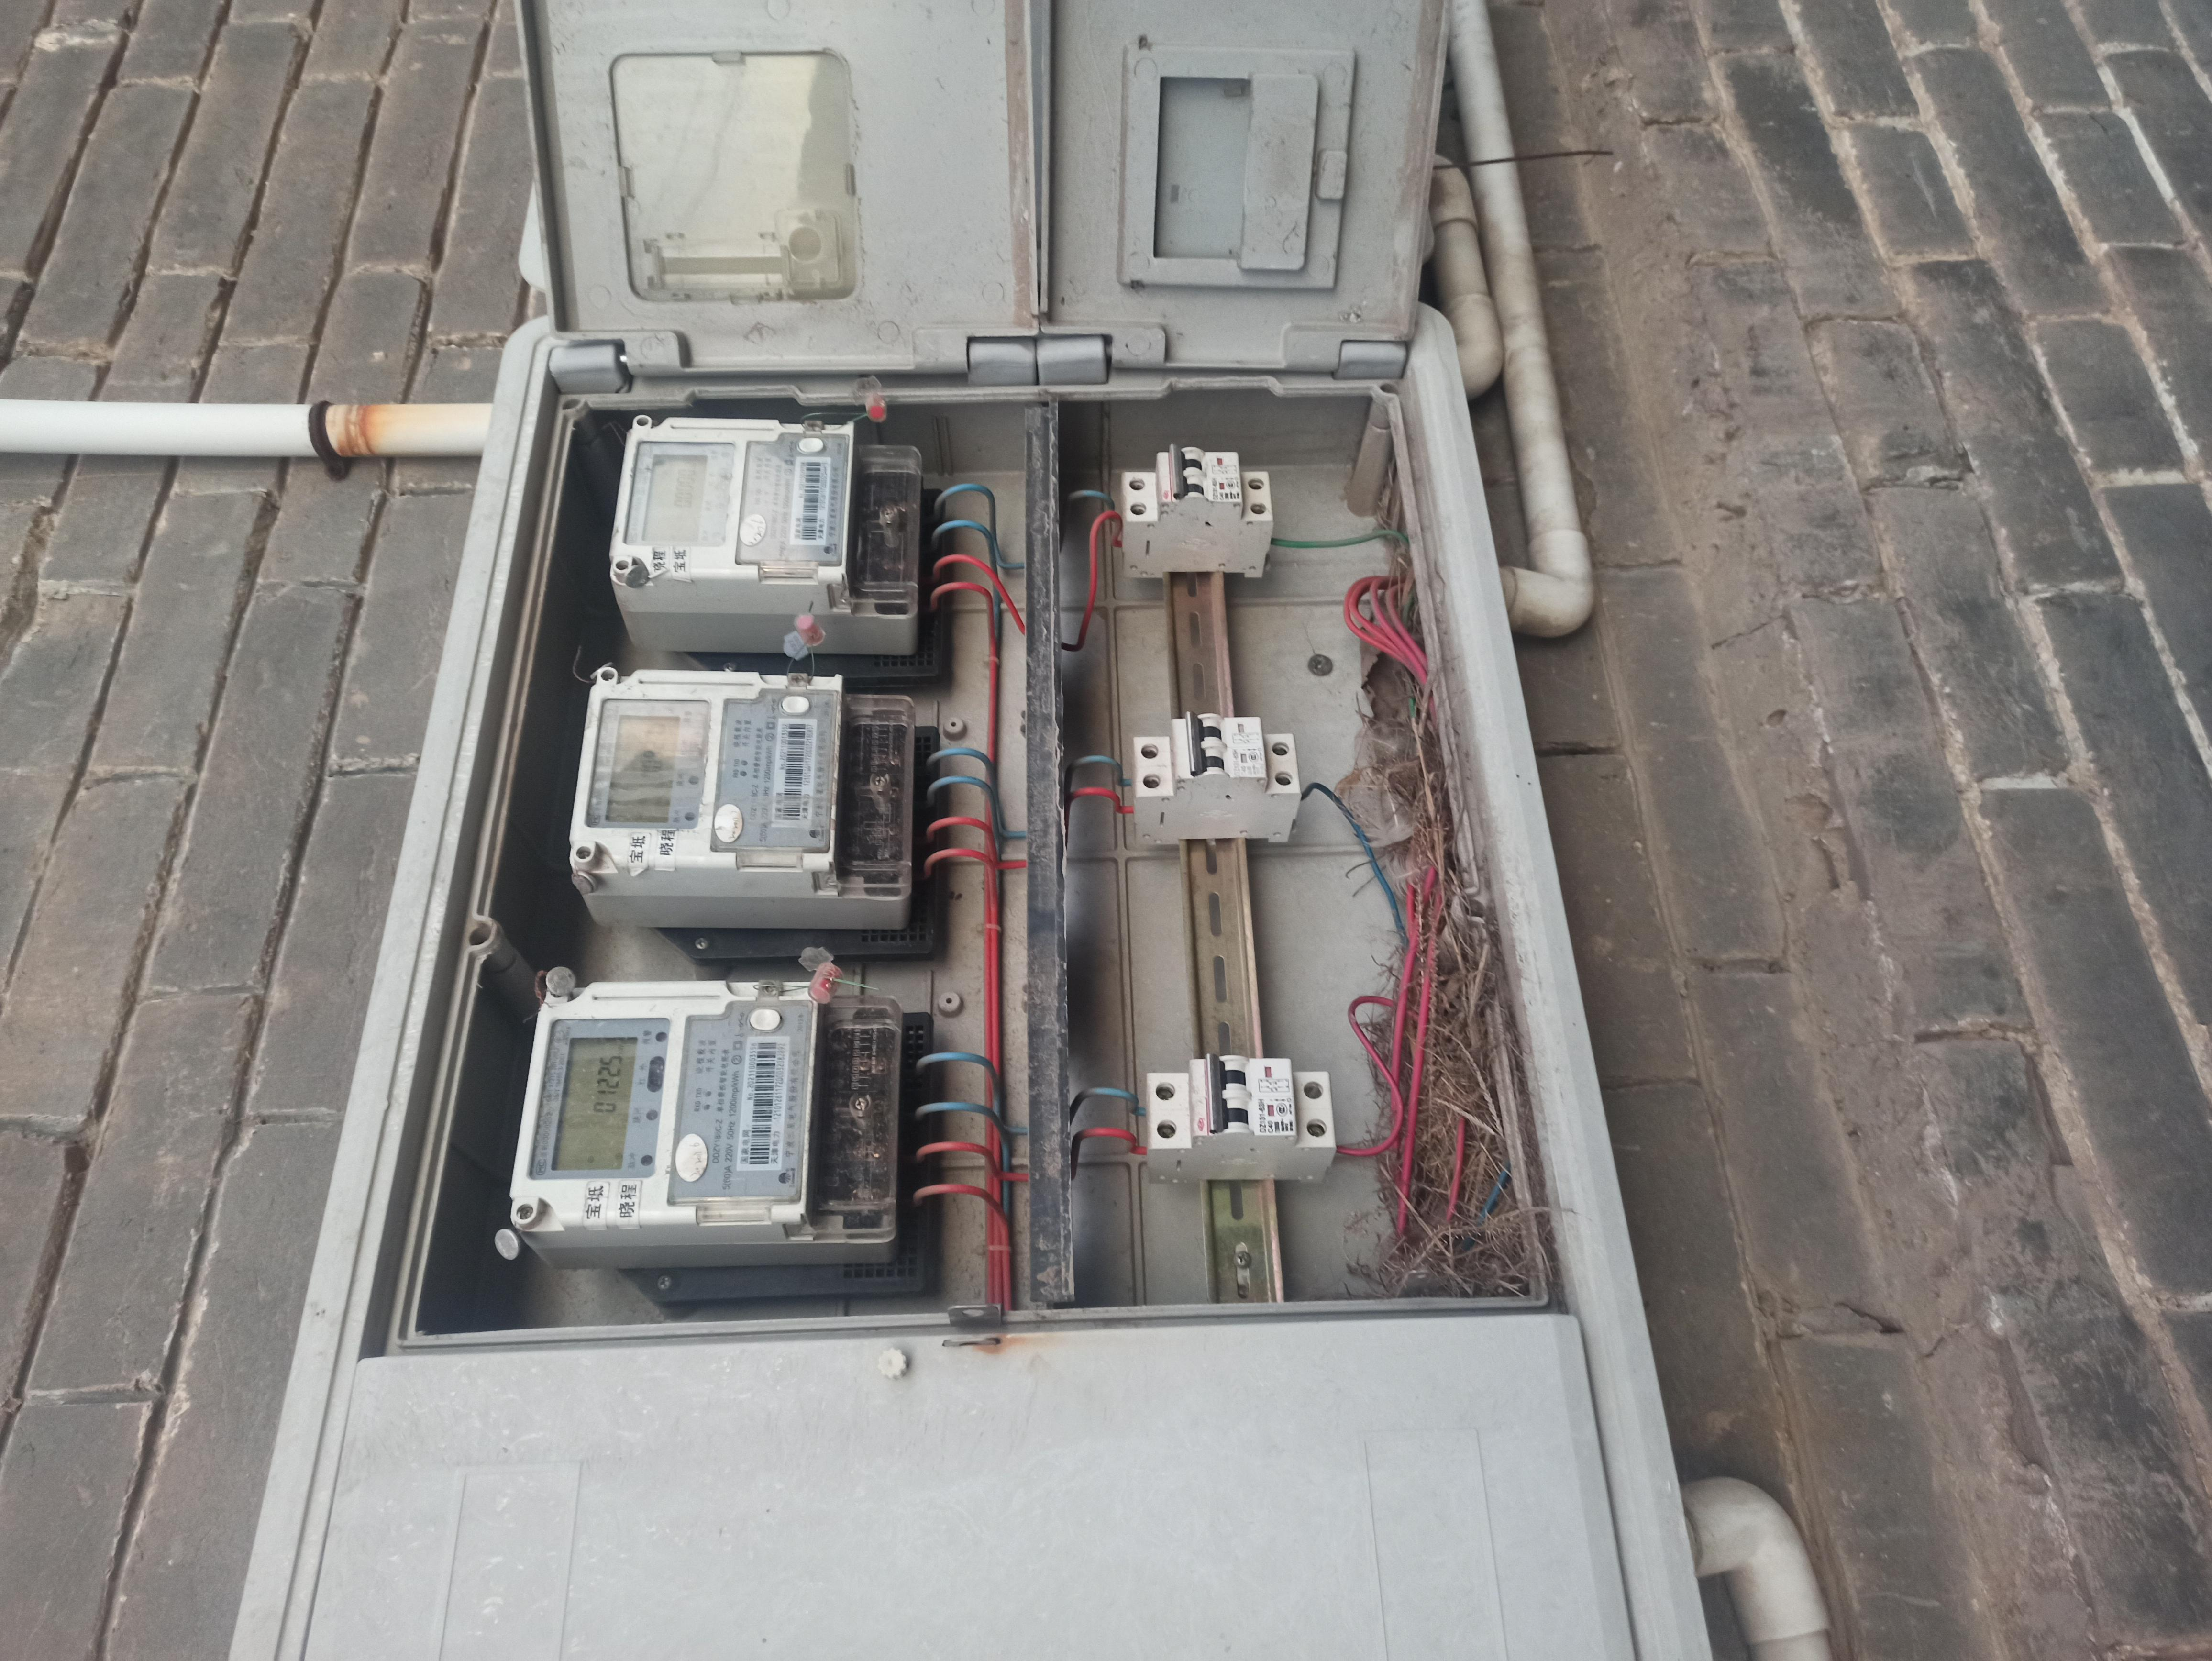digital: (511, 984, 813, 1221), (574, 672, 839, 876), (612, 417, 853, 574)
